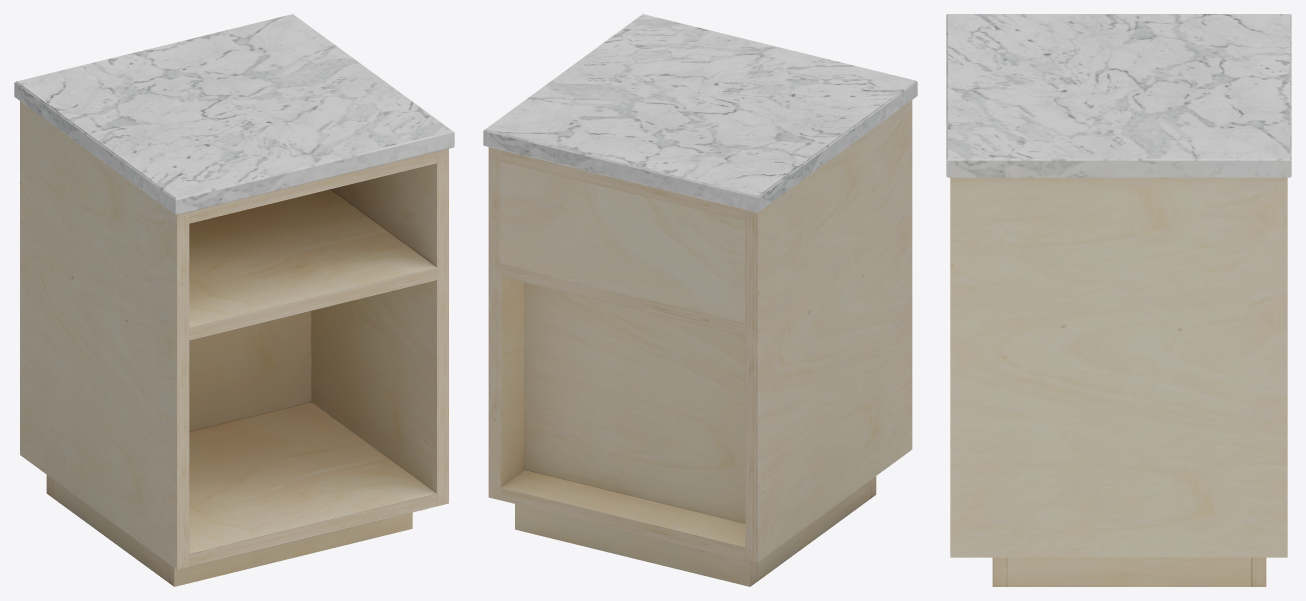
3 renders of one model, left to right at view 1: azimuth 30°, elevation 25°; view 2: azimuth 150°, elevation 25°; view 3: azimuth 270°, elevation 25°, orthographic. The views are drawn at different scales.
Parts seen in each view (by area): view 1: Component Table v15.002; view 2: Component Table v15.002; view 3: Component Table v15.002.
Part boxes in pixels (x1=…): Component Table v15.002: x1=14, y1=14, x2=454, y2=586; Component Table v15.002: x1=483, y1=14, x2=917, y2=586; Component Table v15.002: x1=946, y1=14, x2=1291, y2=586.
Size of the model in its own units: 41 by 57.4 by 41.
Materials: 1 (1 with a texture image).
